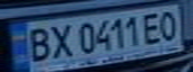0: (75, 19, 96, 54)
1: (121, 12, 145, 47), (109, 16, 127, 48)
4: (93, 17, 115, 52)
B: (21, 24, 54, 63)
E: (139, 10, 166, 44)
O: (157, 8, 181, 42)
X: (45, 21, 75, 60)
